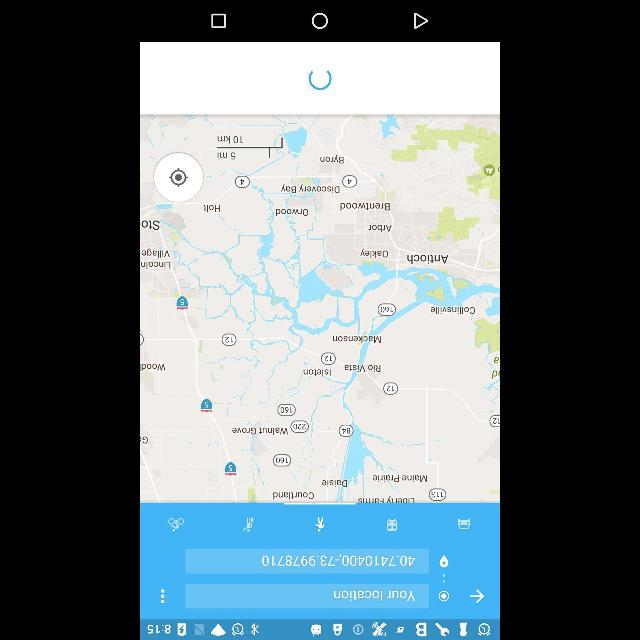icon: (167, 167, 190, 187), (309, 70, 331, 90), (312, 12, 328, 30), (414, 12, 428, 30), (470, 588, 484, 604), (437, 554, 451, 568), (212, 14, 226, 28), (168, 518, 184, 530), (242, 518, 254, 532), (438, 590, 450, 602), (458, 518, 470, 530), (387, 518, 397, 532), (316, 518, 324, 532), (160, 588, 166, 604), (442, 573, 446, 583)
input: (186, 584, 430, 608), (185, 548, 428, 572)
map: (140, 116, 500, 502)
multitab: (140, 504, 500, 546)
panel: (140, 1, 500, 42)
text: (262, 554, 414, 566), (334, 590, 414, 602)
toolbar: (140, 546, 500, 618)
uppertaskbar: (140, 620, 500, 640)
